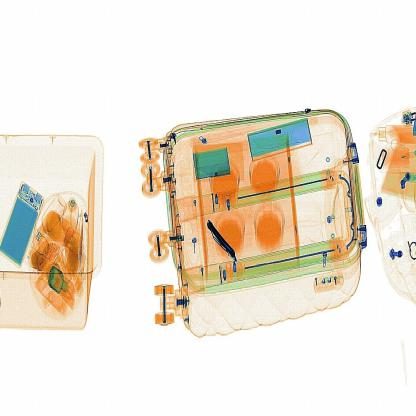knife: (206, 219, 239, 260)
